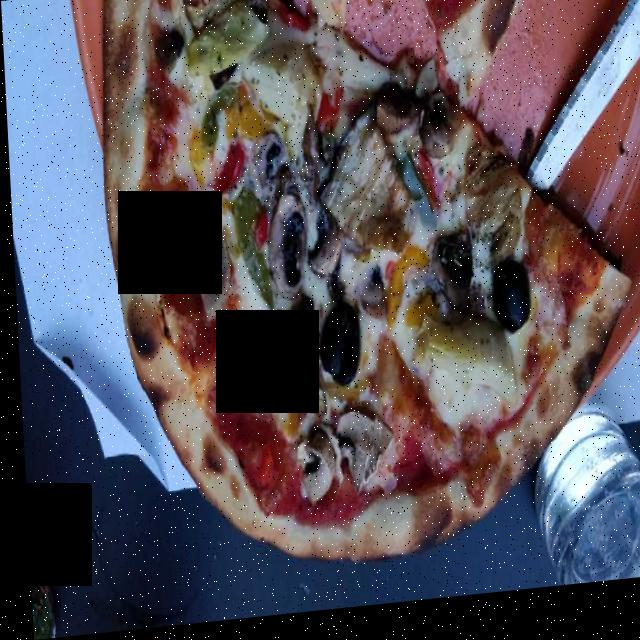pizza-with-vegetables-baked: (107, 0, 615, 568)
